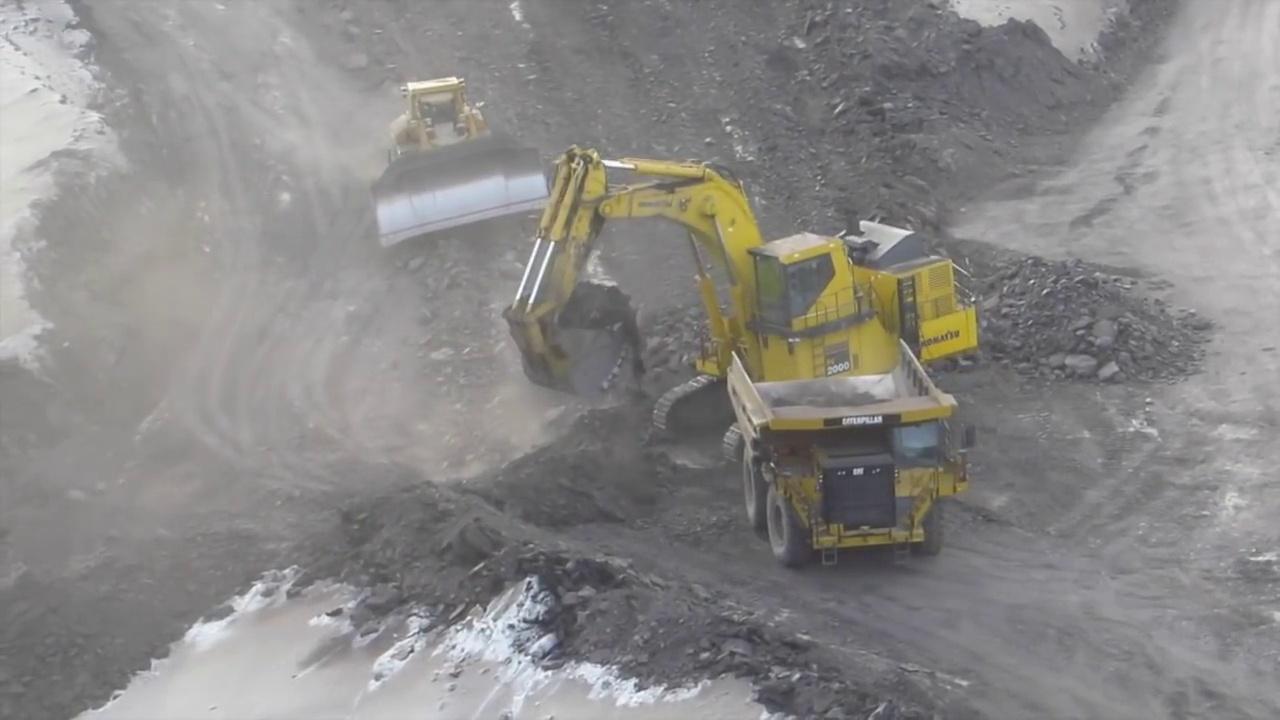dumper: (724, 341, 982, 571)
excavator: (502, 145, 978, 465)
wheel loader: (371, 74, 554, 248)
